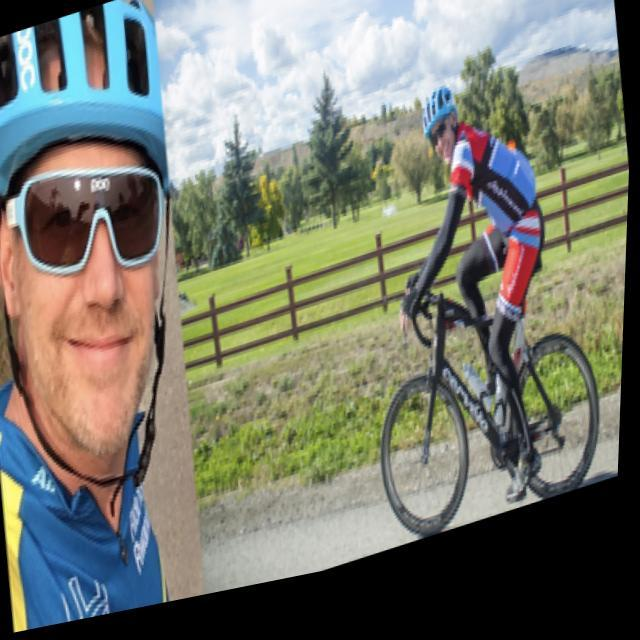Helmet: (0, 0, 187, 512), (416, 82, 471, 159)
